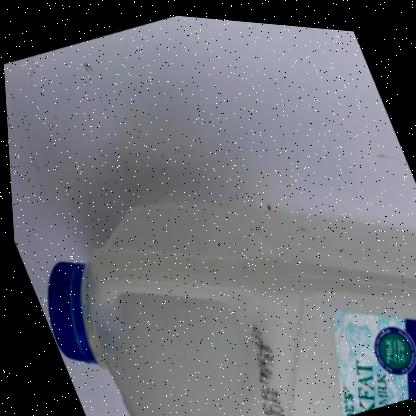Plastic: (43, 199, 416, 416)
